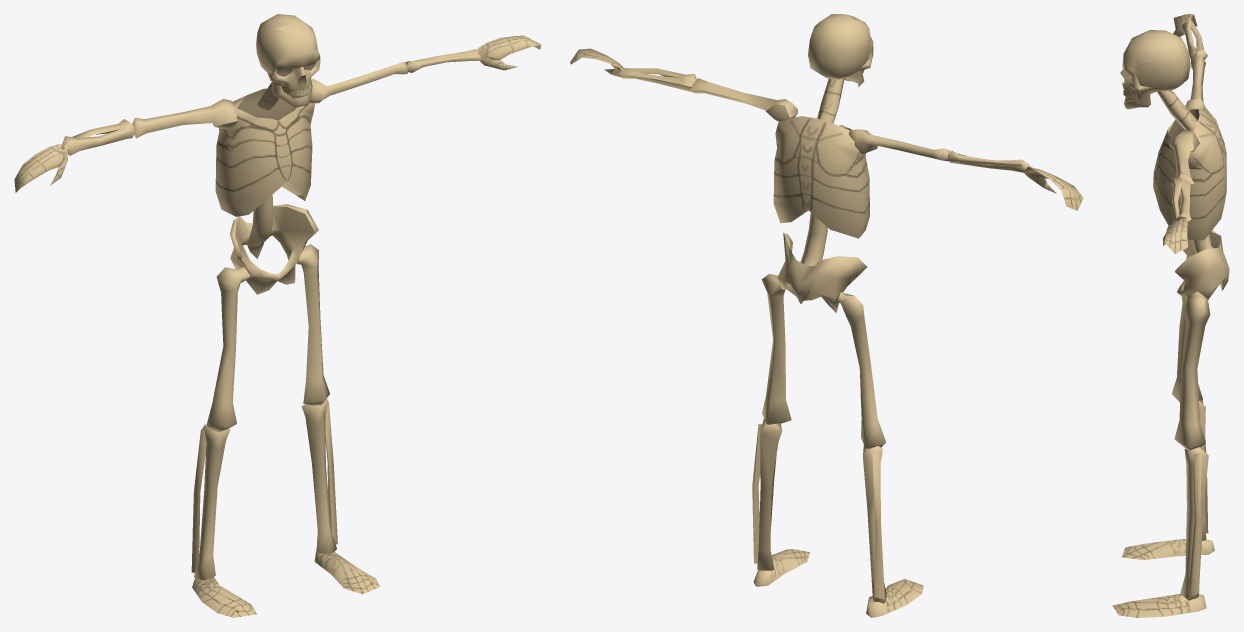
The model's file is Skeleton.fbx.
3 renders of one model, left to right at view 1: azimuth 30°, elevation 25°; view 2: azimuth 150°, elevation 25°; view 3: azimuth 270°, elevation 25°, orthographic. The views are drawn at different scales.
Visible parts, largest first — view 1: torax, hips, head, r.leg, l.leg, r.tigh, l.tigh, r.forearm, r.foot, l.foot, r.hand, r.arm (+3 smaller); view 2: torax, hips, head, l.leg, l.tigh, r.tigh, r.leg, l.forearm, r.forearm, r.foot, l.arm, l.foot (+3 smaller); view 3: torax, head, l.tigh, l.leg, hips, l.foot, r.foot, l.forearm, neck, r.forearm, l.arm, l.hand (+4 smaller).
Boxes of the visible parts, box(x1,y1,x2,y2) form: torax: box(215, 88, 315, 216); hips: box(230, 194, 318, 294); head: box(256, 14, 320, 108); r.leg: box(191, 424, 230, 580); l.leg: box(301, 399, 337, 554); r.tigh: box(206, 267, 249, 432); l.tigh: box(296, 244, 329, 405); r.forearm: box(132, 98, 237, 138); r.foot: box(192, 577, 256, 617); l.foot: box(314, 550, 379, 594); r.hand: box(14, 143, 67, 192); r.arm: box(61, 119, 135, 155); torax: box(773, 116, 869, 238); hips: box(777, 212, 867, 312); head: box(808, 14, 873, 86); l.leg: box(752, 419, 782, 570); l.tigh: box(761, 274, 791, 424); r.tigh: box(837, 292, 886, 448); r.leg: box(863, 445, 886, 603); l.forearm: box(689, 78, 797, 121); r.forearm: box(849, 129, 949, 161); r.foot: box(866, 579, 923, 617); l.arm: box(618, 67, 696, 91); l.foot: box(753, 549, 809, 586); torax: box(1153, 108, 1226, 240); head: box(1120, 30, 1190, 109); l.tigh: box(1174, 291, 1210, 450); l.leg: box(1180, 447, 1208, 600); hips: box(1175, 230, 1229, 310); l.foot: box(1112, 593, 1206, 617); r.foot: box(1122, 539, 1214, 560); l.forearm: box(1169, 130, 1199, 185); neck: box(1157, 90, 1197, 130); r.forearm: box(1185, 54, 1205, 110); l.arm: box(1171, 178, 1191, 223); l.hand: box(1163, 216, 1187, 253).
Bounding box in the file's own units: 0.6541 × 3.37 × 3.2.
